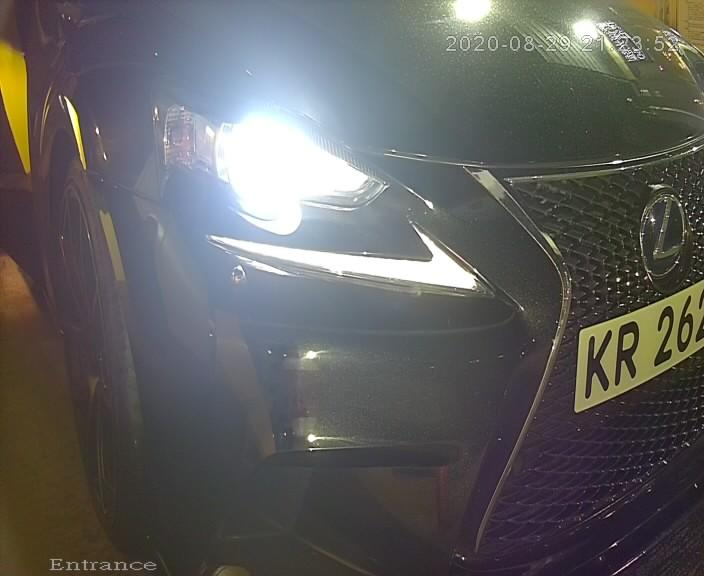License Plate: (563, 268, 695, 420)
